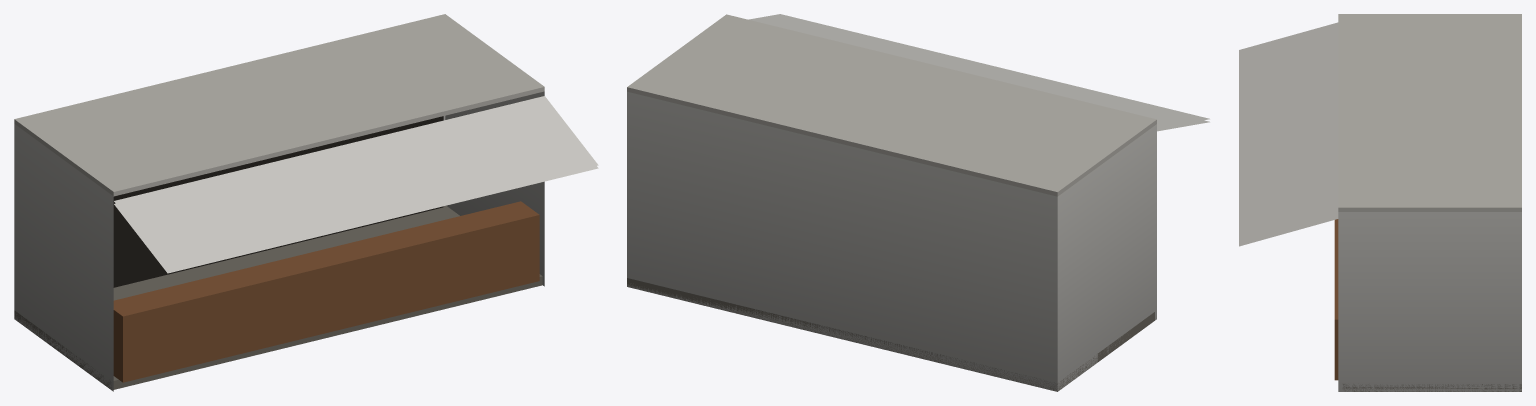
The model's file is ub_container_lod1.glb.
3 renders of one model, left to right at view 1: azimuth 30°, elevation 25°; view 2: azimuth 150°, elevation 25°; view 3: azimuth 270°, elevation 25°, orthographic. The views are drawn at different scales.
Visible parts, largest first — view 1: ub_container_lod1; view 2: ub_container_lod1; view 3: ub_container_lod1.
Boxes of the visible parts, x1,y1,x2,y2 form: ub_container_lod1: [14, 14, 598, 391]; ub_container_lod1: [627, 14, 1209, 391]; ub_container_lod1: [1239, 14, 1521, 391].
Bounding box in the file's own units: 6 × 2.66 × 3.7.
